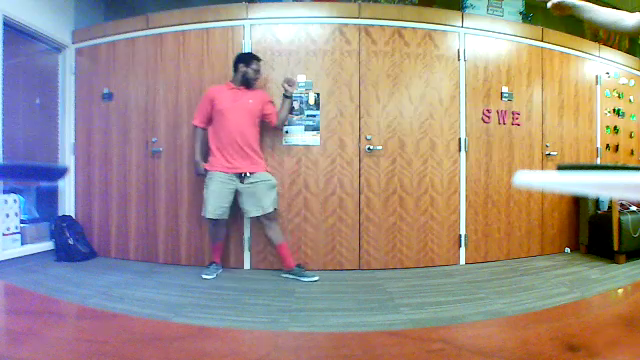up: (277, 66, 298, 96)
